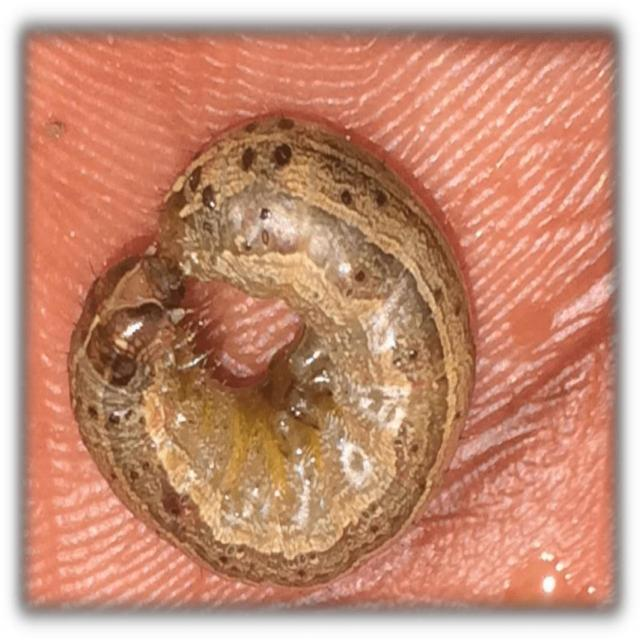BeetArmyWorm-Larva-: (57, 102, 488, 597)
